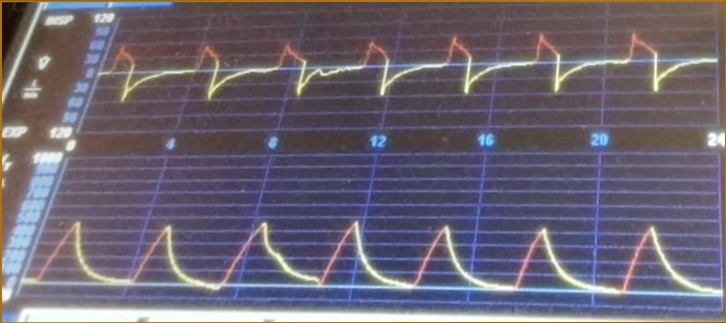Premature_cycling Flow: (107, 23, 703, 126)
Premature_cycling Volume: (38, 210, 718, 302)
